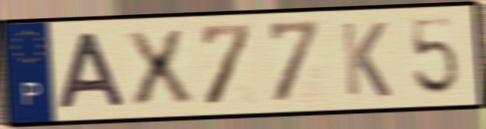5: (407, 15, 463, 99)
7: (266, 18, 324, 108), (198, 21, 256, 109)
A: (56, 30, 130, 113)
K: (338, 19, 394, 100)
X: (120, 26, 198, 110)
